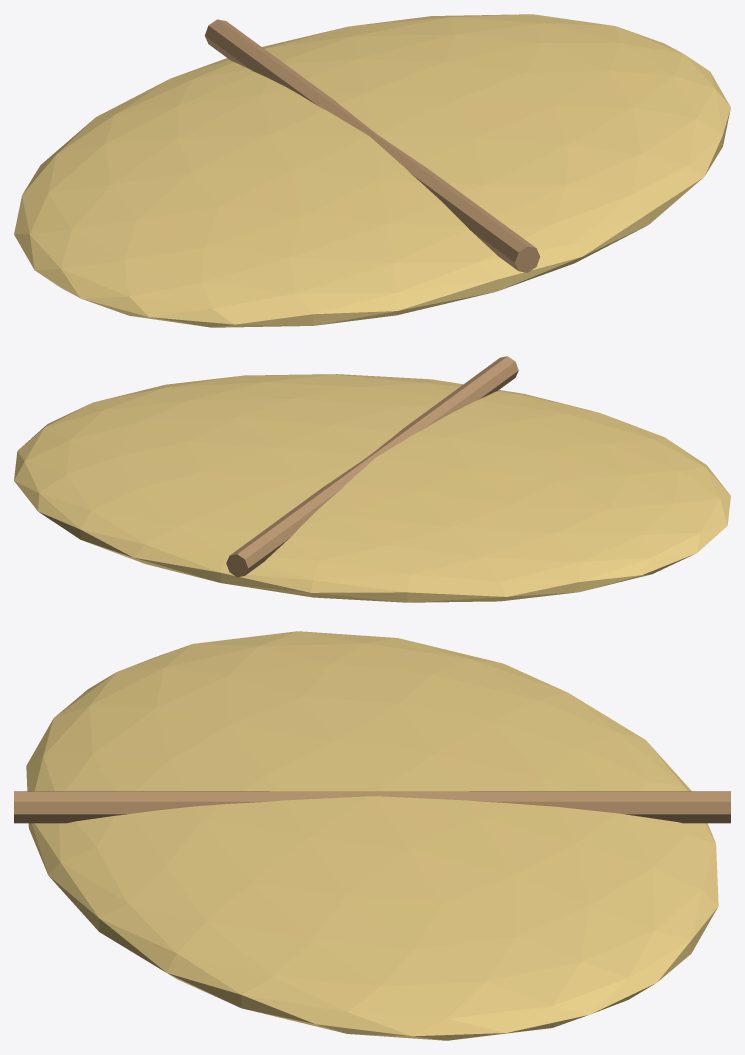
Rendered from env_dry_leaf_v1.glb.
3 renders of one model, top to bottom at view 1: azimuth 30°, elevation 25°; view 2: azimuth 150°, elevation 25°; view 3: azimuth 270°, elevation 25°, orthographic. The views are drawn at different scales.
Visible parts, largest first — view 1: dry_leaf_body, dry_leaf_vein; view 2: dry_leaf_body, dry_leaf_vein; view 3: dry_leaf_body, dry_leaf_vein.
Part boxes in pixels (x1=…): dry_leaf_body: x1=14, y1=14, x2=730, y2=327; dry_leaf_vein: x1=204, y1=19, x2=540, y2=272; dry_leaf_body: x1=14, y1=374, x2=730, y2=602; dry_leaf_vein: x1=226, y1=356, x2=518, y2=577; dry_leaf_body: x1=26, y1=631, x2=718, y2=1040; dry_leaf_vein: x1=14, y1=791, x2=730, y2=823.
Bounding box in the file's own units: 0.4495 × 0.045 × 0.34.
